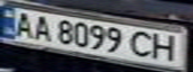0: (69, 20, 90, 48)
8: (51, 17, 75, 46)
9: (103, 25, 127, 55), (87, 22, 106, 52)
A: (9, 10, 39, 38), (30, 14, 54, 43)
C: (127, 28, 160, 60)
H: (148, 30, 184, 63)
